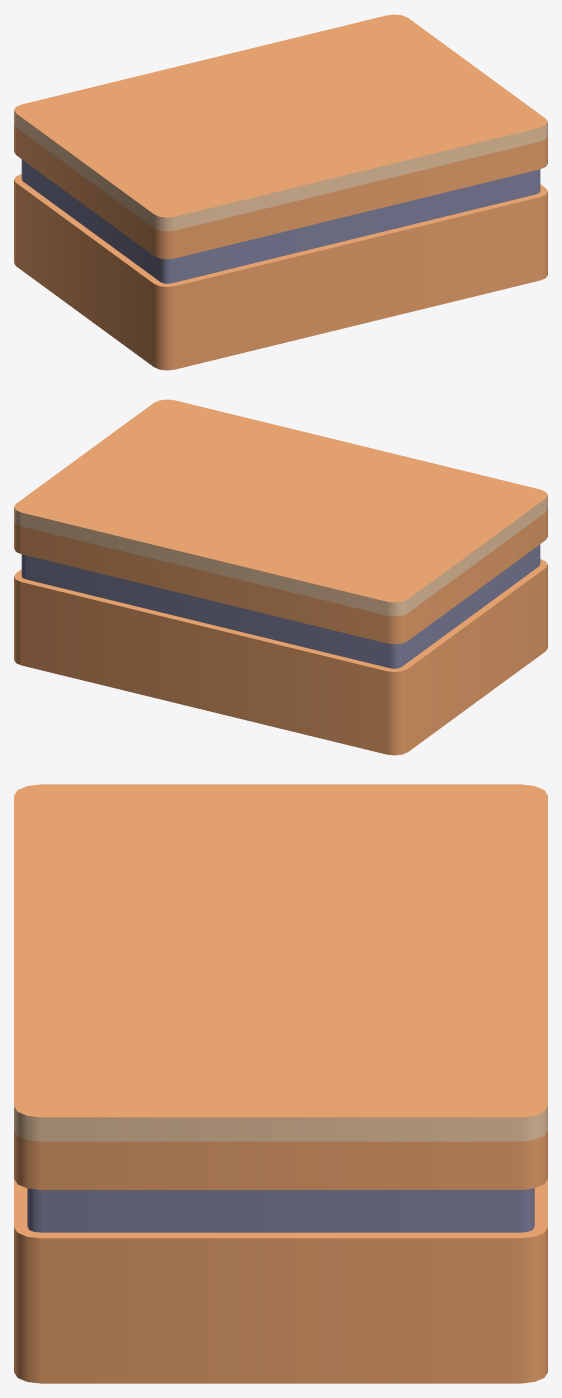
The model's file is planeRounded_2X3.fbx.
The picture shows the model from 3 angles, top to bottom: view 1: azimuth 30°, elevation 25°; view 2: azimuth 150°, elevation 25°; view 3: azimuth 270°, elevation 25°; orthographic projection. The views are drawn at different scales.
Visible parts, largest first — view 1: planeRounded.2X3, planeRounded.2X3.002, planeRounded.2X3.001; view 2: planeRounded.2X3, planeRounded.2X3.001, planeRounded.2X3.002; view 3: planeRounded.2X3, planeRounded.2X3.001, planeRounded.2X3.002.
Boxes of the visible parts, bbox=[...] form: planeRounded.2X3: bbox=[14, 124, 547, 370]; planeRounded.2X3.002: bbox=[85, 68, 547, 231]; planeRounded.2X3.001: bbox=[14, 14, 476, 177]; planeRounded.2X3: bbox=[14, 509, 547, 755]; planeRounded.2X3.001: bbox=[14, 453, 476, 616]; planeRounded.2X3.002: bbox=[85, 399, 547, 562]; planeRounded.2X3: bbox=[14, 1131, 547, 1383]; planeRounded.2X3.001: bbox=[281, 784, 547, 1141]; planeRounded.2X3.002: bbox=[14, 784, 280, 1141].
Bounding box in the file's own units: 295 × 110 × 200.
